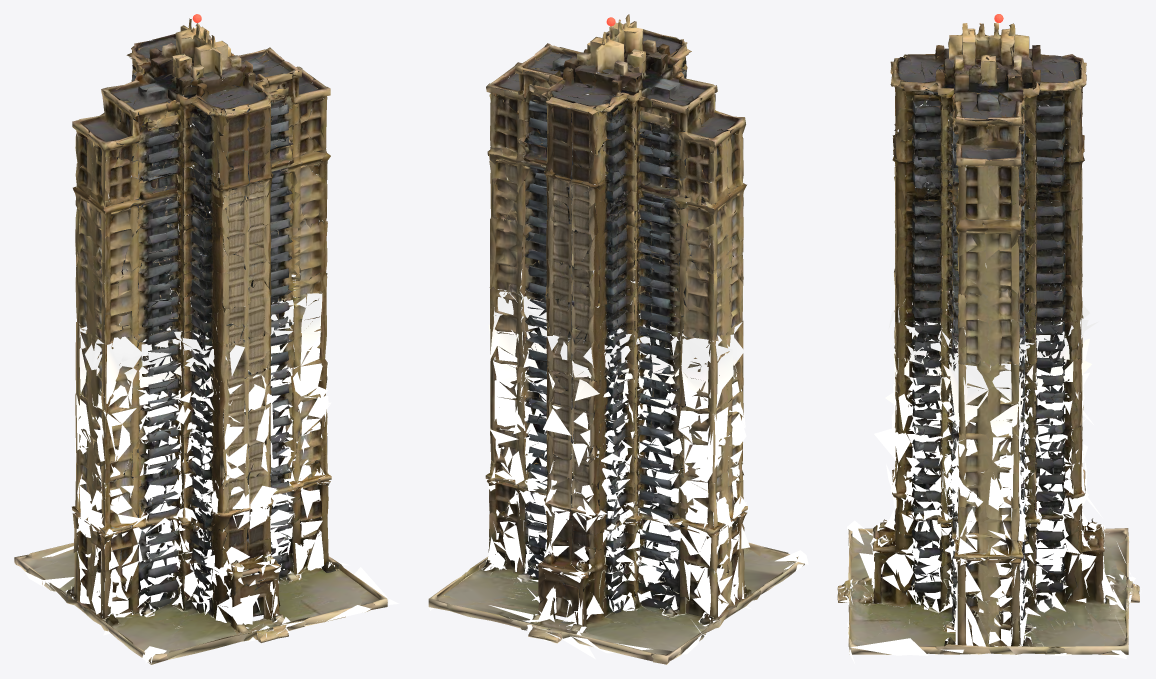
File: gold.glb
3 renders of one model, left to right at view 1: azimuth 30°, elevation 25°; view 2: azimuth 150°, elevation 25°; view 3: azimuth 270°, elevation 25°, orthographic. The views are drawn at different scales.
Visible parts, largest first — view 1: Body, Accent; view 2: Body, Accent; view 3: Body, Accent.
Boxes of the visible parts, bbox=[...] form: Body: bbox=[14, 18, 387, 664]; Accent: bbox=[24, 273, 399, 663]; Body: bbox=[428, 14, 804, 664]; Accent: bbox=[428, 269, 808, 659]; Body: bbox=[837, 22, 1139, 654]; Accent: bbox=[838, 263, 1141, 663].
Size of the model in its own units: 38.31 by 83.43 by 38.44.
3 materials, 1 textured.
